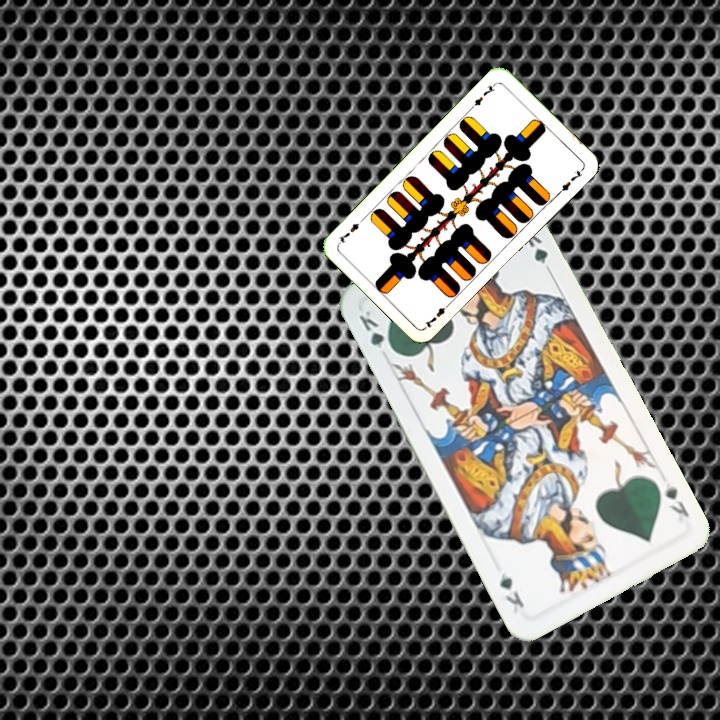E7: (420, 298, 453, 331), (467, 79, 499, 112)
GK: (354, 306, 397, 356), (660, 478, 692, 520)
